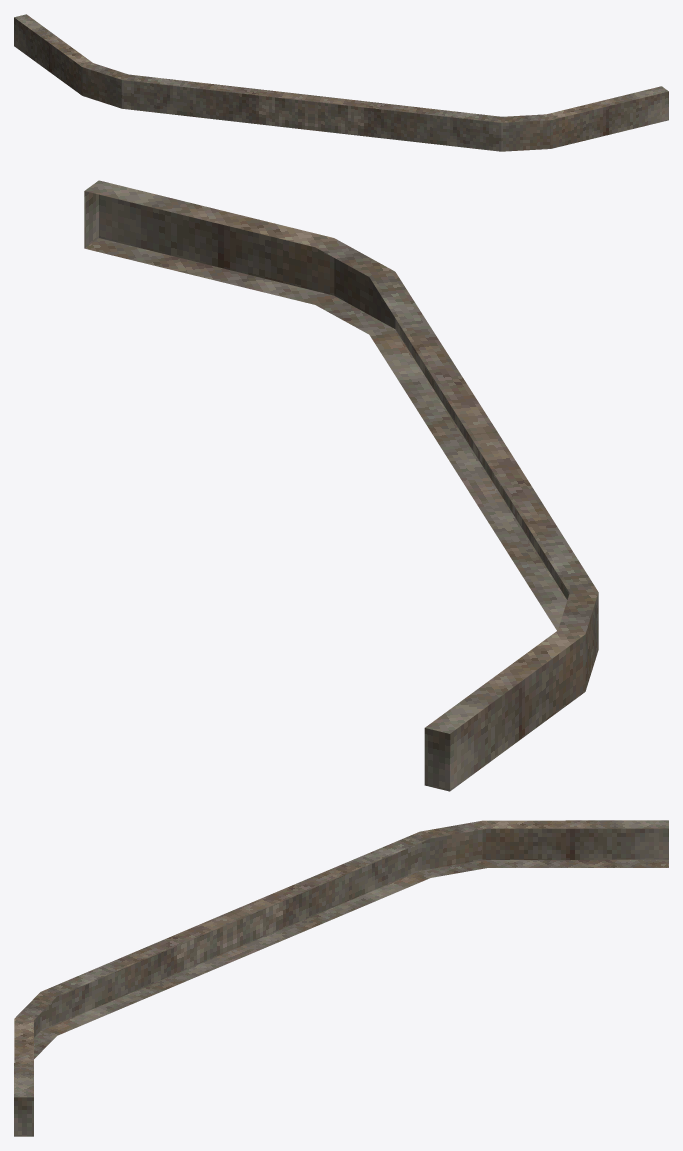
The model's file is wall_cladding_45degrees_narrow_02.gltf.
3 renders of one model, top to bottom at view 1: azimuth 30°, elevation 25°; view 2: azimuth 150°, elevation 25°; view 3: azimuth 270°, elevation 25°, orthographic. The views are drawn at different scales.
Visible parts, largest first — view 1: wall_cladding_45degrees_narrow_02; view 2: wall_cladding_45degrees_narrow_02; view 3: wall_cladding_45degrees_narrow_02.
Boxes of the visible parts, x1,y1,x2,y2 form: wall_cladding_45degrees_narrow_02: (14,14,668,151); wall_cladding_45degrees_narrow_02: (84,180,598,791); wall_cladding_45degrees_narrow_02: (14,820,668,1136).
Bounding box in the file's own units: 3.3 × 0.2188 × 3.3.
1 material, 1 textured.
